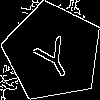Y: (27, 27, 79, 84)
